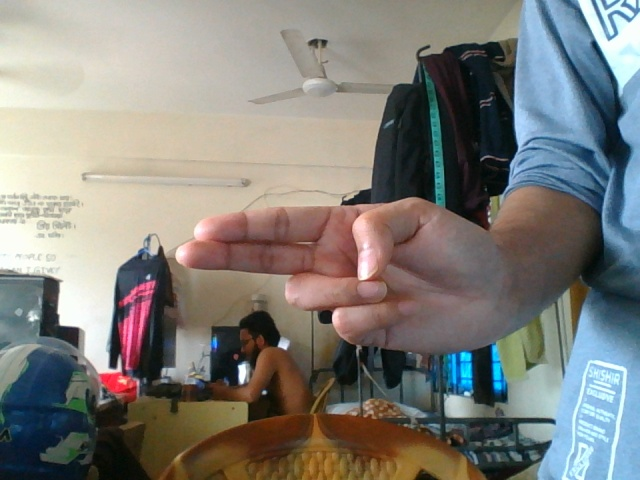ha: (144, 192, 557, 372)
